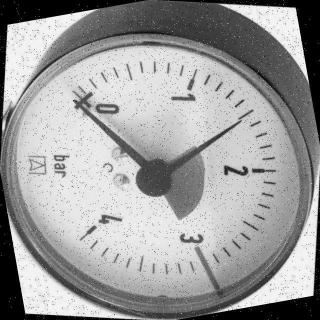gauge: (0, 30, 320, 320), (61, 213, 114, 256), (131, 157, 175, 201), (69, 84, 103, 120), (66, 93, 86, 114), (231, 114, 246, 128)
